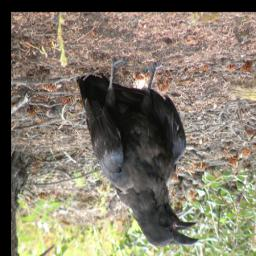Crow: (74, 54, 200, 248)
